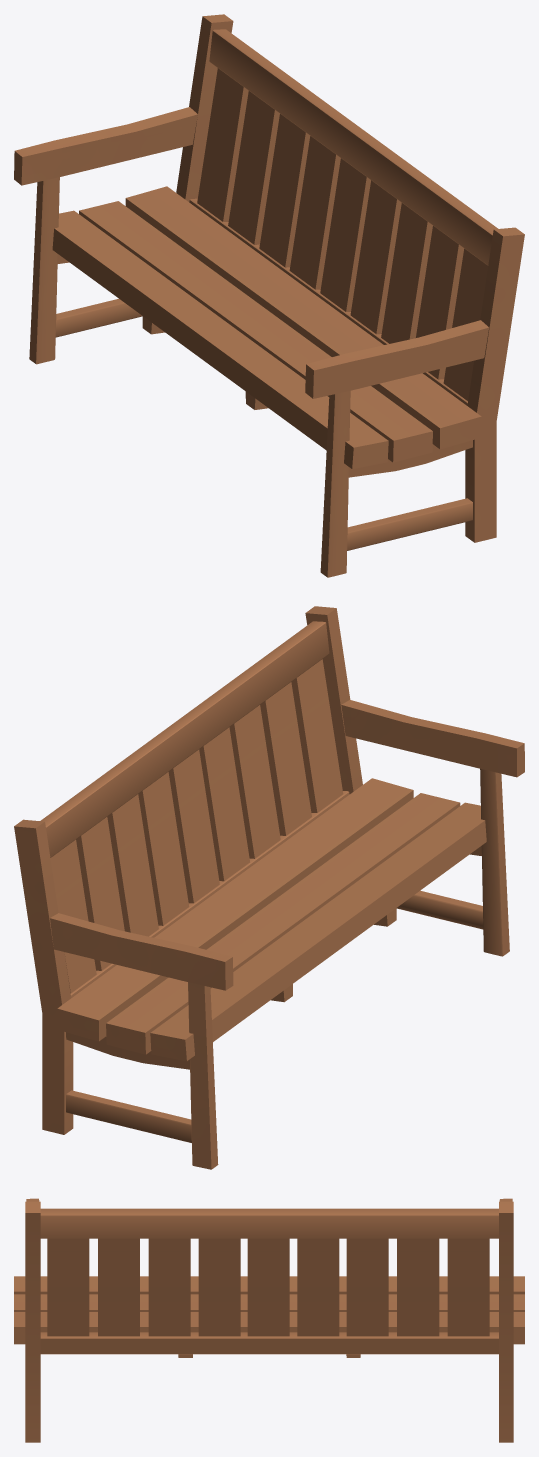
Rendered from Bench.fbx.
3 renders of one model, top to bottom at view 1: azimuth 30°, elevation 25°; view 2: azimuth 150°, elevation 25°; view 3: azimuth 270°, elevation 25°, orthographic. The views are drawn at different scales.
Visible parts, largest first — view 1: Box017; view 2: Box017; view 3: Box017.
Part boxes in pixels (left/top/right/bottom): Box017: left=14, top=14, right=524, bottom=577; Box017: left=14, top=606, right=524, bottom=1169; Box017: left=14, top=1198, right=524, bottom=1442.
Size of the model in its own units: 2043 by 2774 by 5277.
